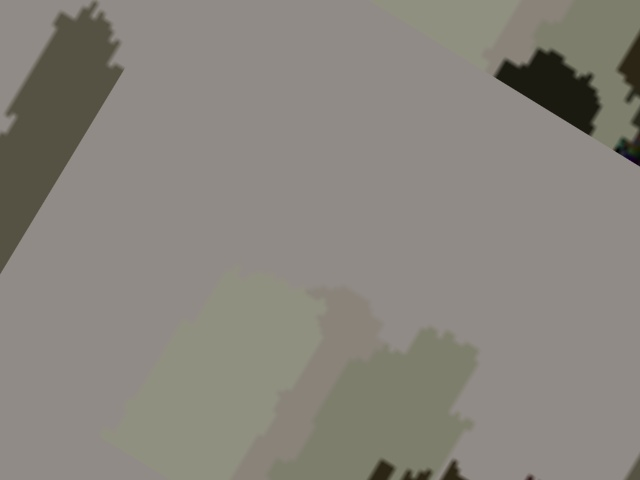eight: (393, 273, 463, 337)
